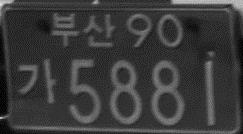0: (156, 12, 183, 47)
1: (199, 58, 218, 127)
5: (68, 58, 102, 124)
8: (148, 58, 185, 127), (107, 58, 142, 125)
9: (125, 12, 154, 49)
가: (16, 58, 58, 105)
부산_O: (50, 10, 115, 49)
